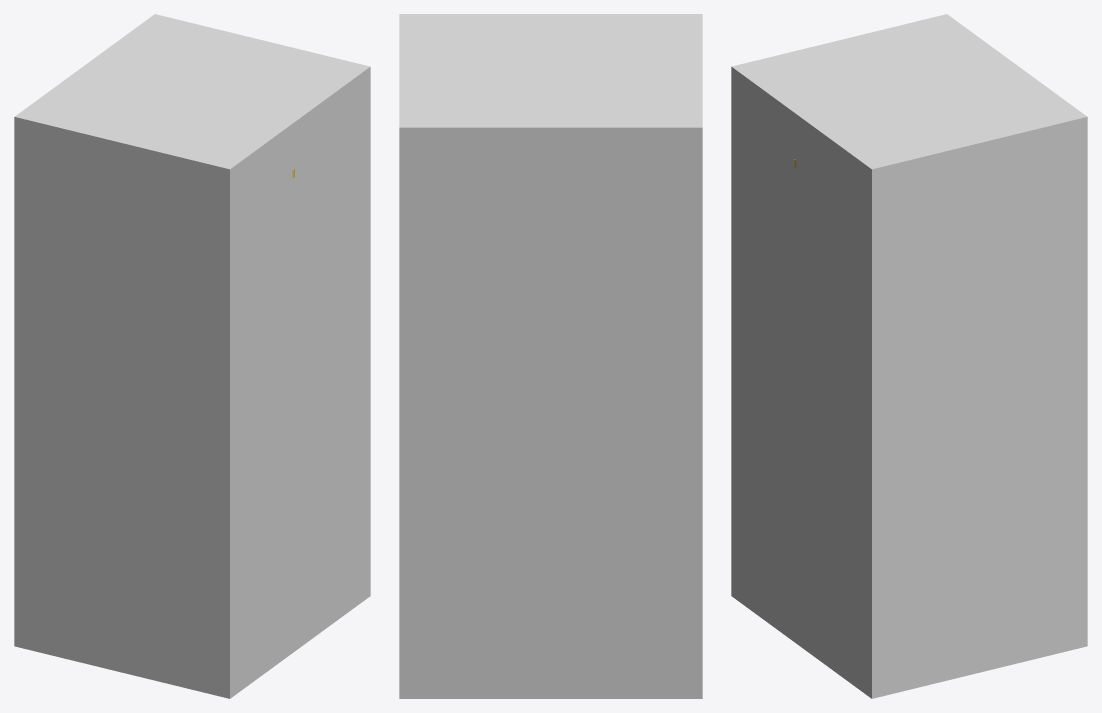
Rendered from npc_egg_keeper.fbx.
3 views of the same model, side by side, from view 1: azimuth 30°, elevation 25°; view 2: azimuth 150°, elevation 25°; view 3: azimuth 270°, elevation 25° (orthographic). The views are drawn at different scales.
Visible parts, largest first — view 1: Root__-0.16_3.00_0.06__2.88_6.00_2.56; view 2: Root__-0.16_3.00_0.06__2.88_6.00_2.56; view 3: Root__-0.16_3.00_0.06__2.88_6.00_2.56.
Boxes of the visible parts, x1=… form: Root__-0.16_3.00_0.06__2.88_6.00_2.56: x1=14, y1=14, x2=370, y2=698; Root__-0.16_3.00_0.06__2.88_6.00_2.56: x1=399, y1=14, x2=702, y2=698; Root__-0.16_3.00_0.06__2.88_6.00_2.56: x1=731, y1=14, x2=1087, y2=698.
Bounding box in the file's own units: 106 × 169 × 102.
Materials: 1 (1 with a texture image).
